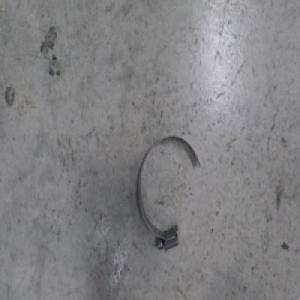AdjustableClamp: (136, 135, 200, 251)
